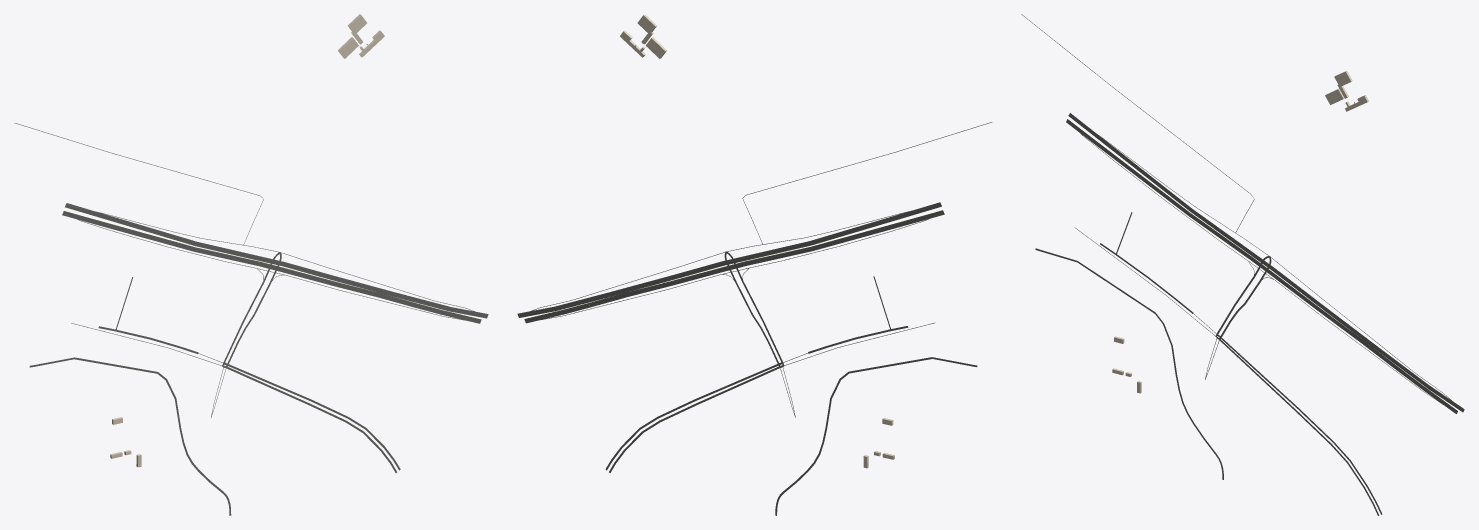
File: historic-palestine-06_22_3479_3160.glb
The picture shows the model from 3 angles, left to right: view 1: azimuth 30°, elevation 25°; view 2: azimuth 150°, elevation 25°; view 3: azimuth 330°, elevation 25°; orthographic projection. The views are drawn at different scales.
Parts seen in each view (by area): view 1: Road 35.003, Road 35, Road 35.001, Road 35.005, Road החורש; view 2: Road 35.003, Road 35, Road 35.005, Road 35.001, Road החורש; view 3: Road 35.003, Road 35, Road 35.005, Road 35.001, Road החורש.
Part boxes in pixels (x1=…): Road 35.003: x1=283, y1=262, x2=488, y2=318; Road 35: x1=281, y1=267, x2=481, y2=323; Road 35.001: x1=62, y1=211, x2=260, y2=265; Road 35.005: x1=65, y1=203, x2=262, y2=261; Road החורש: x1=29, y1=357, x2=231, y2=515; Road 35.003: x1=517, y1=261, x2=723, y2=317; Road 35: x1=524, y1=267, x2=725, y2=323; Road 35.005: x1=744, y1=202, x2=941, y2=260; Road 35.001: x1=746, y1=210, x2=944, y2=265; Road החורש: x1=775, y1=357, x2=977, y2=515; Road 35.003: x1=1272, y1=268, x2=1464, y2=412; Road 35: x1=1270, y1=272, x2=1457, y2=413; Road 35.005: x1=1068, y1=113, x2=1253, y2=255; Road 35.001: x1=1066, y1=119, x2=1251, y2=259; Road החורש: x1=1035, y1=248, x2=1223, y2=479.
Size of the model in its own units: 1361 by 1286 by 8.7.
